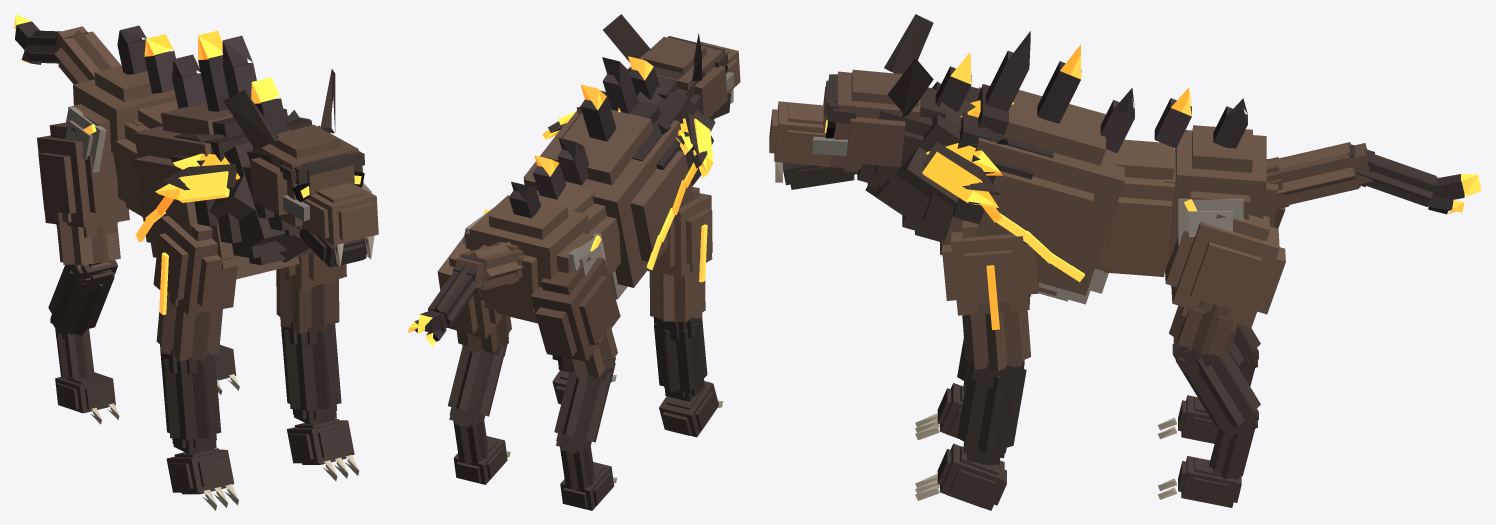
The picture shows the model from 3 angles, left to right: view 1: azimuth 30°, elevation 25°; view 2: azimuth 150°, elevation 25°; view 3: azimuth 270°, elevation 25°; orthographic projection. The views are drawn at different scales.
Visible parts, largest first — view 1: AshHound; view 2: AshHound; view 3: AshHound.
Part boxes in pixels (x1,y1,x2,y2): AshHound: (14,14,378,510); AshHound: (407,14,740,510); AshHound: (769,14,1481,510).
Bounding box in the file's own units: 0.4788 × 1.03 × 1.53.
